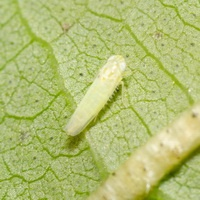insect: (65, 55, 125, 135)
